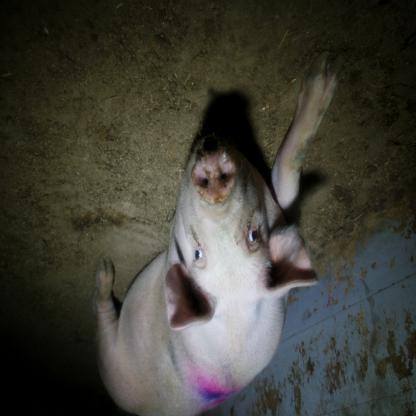boar: (92, 55, 348, 416)
